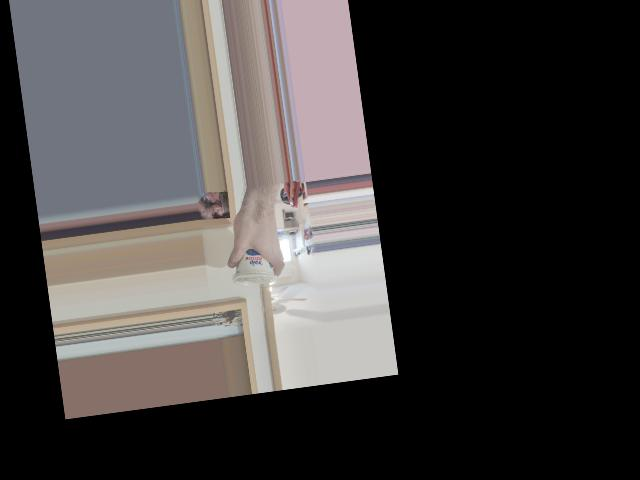cotage: (229, 235, 281, 290)
